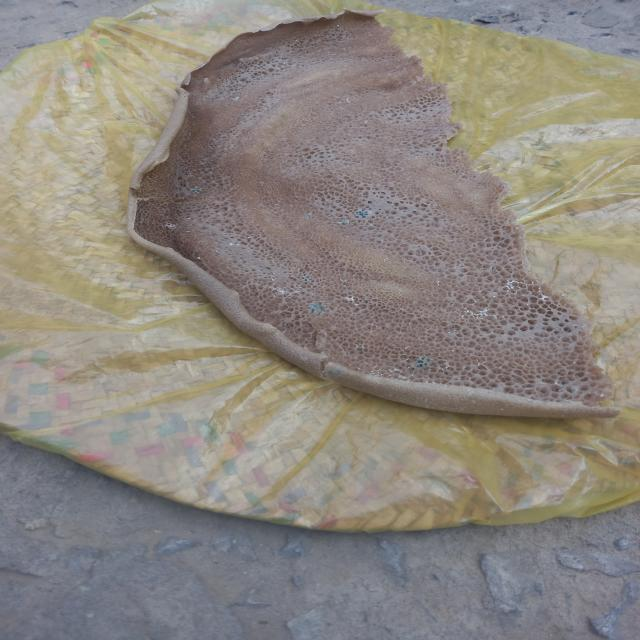injera_mold: (359, 360, 410, 380), (269, 284, 301, 298), (461, 306, 495, 318), (504, 279, 531, 293), (306, 300, 328, 311), (436, 360, 451, 373), (326, 368, 344, 377), (415, 356, 431, 366), (161, 220, 177, 230), (356, 210, 370, 218), (190, 185, 202, 192), (344, 296, 356, 302), (338, 219, 350, 225), (301, 275, 311, 281), (305, 212, 313, 219), (356, 344, 364, 350), (436, 279, 442, 286), (540, 295, 548, 300), (234, 96, 240, 101), (340, 279, 347, 283), (383, 258, 389, 262), (270, 278, 276, 281), (228, 242, 234, 245), (355, 303, 359, 305)
